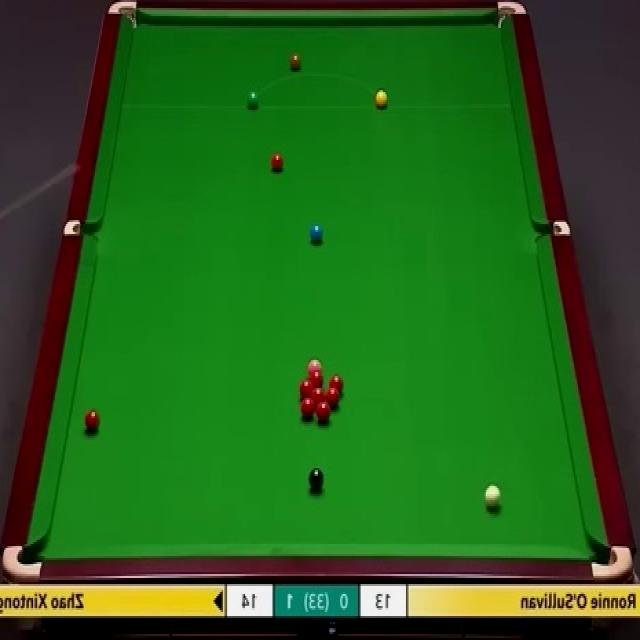black-ball: (308, 467, 324, 492)
blue-ball: (310, 222, 325, 244)
brown-ball: (289, 52, 301, 72)
green-ball: (247, 89, 260, 110)
pink-ball: (307, 356, 323, 370)
red-ball: (85, 408, 101, 433), (316, 401, 331, 423), (300, 398, 315, 420), (270, 152, 285, 173), (329, 373, 344, 392), (326, 388, 340, 408), (308, 369, 324, 386), (312, 388, 326, 406), (300, 380, 314, 398)
white-ball: (485, 482, 502, 510)
yellow-ball: (375, 88, 388, 109)
